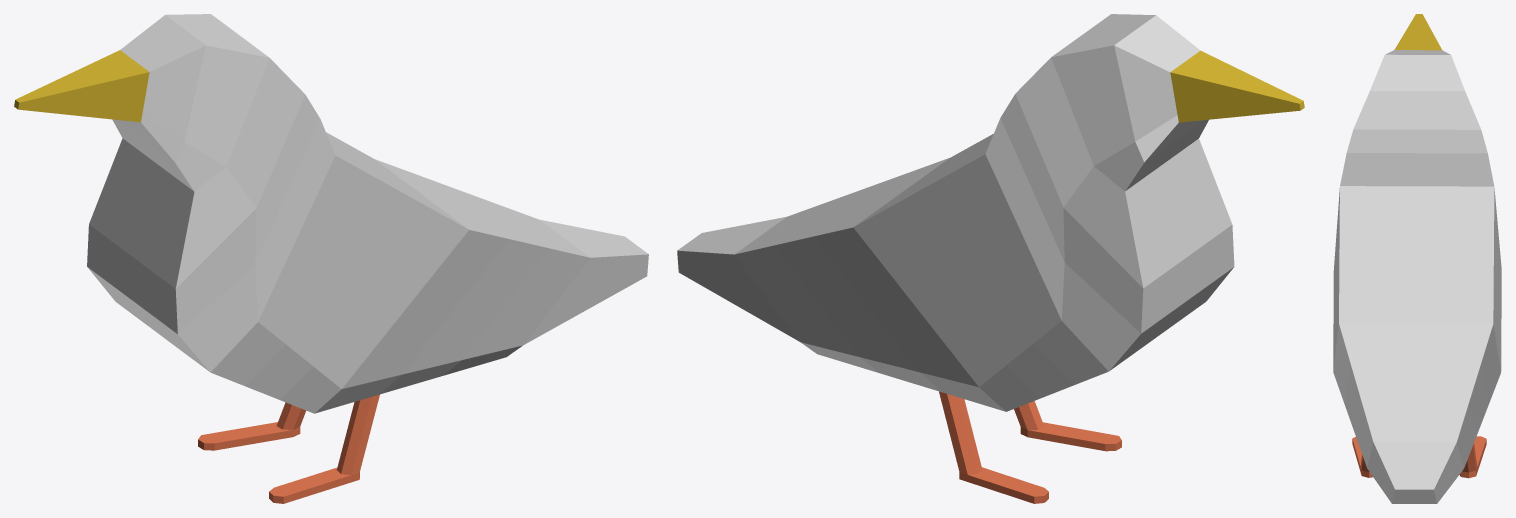
3 views of the same model, side by side, from view 1: azimuth 30°, elevation 25°; view 2: azimuth 150°, elevation 25°; view 3: azimuth 270°, elevation 25° (orthographic). The views are drawn at different scales.
Visible parts, largest first — view 1: Cube, Legs; view 2: Cube, Legs; view 3: Cube, Legs.
Part boxes in pixels (x1=…): Cube: x1=14, y1=14, x2=648, y2=413; Legs: x1=198, y1=394, x2=379, y2=503; Cube: x1=677, y1=14, x2=1304, y2=411; Legs: x1=939, y1=391, x2=1121, y2=503; Cube: x1=1333, y1=14, x2=1501, y2=503; Legs: x1=1352, y1=436, x2=1486, y2=478.
Size of the model in its own units: 724 by 513 by 213.
